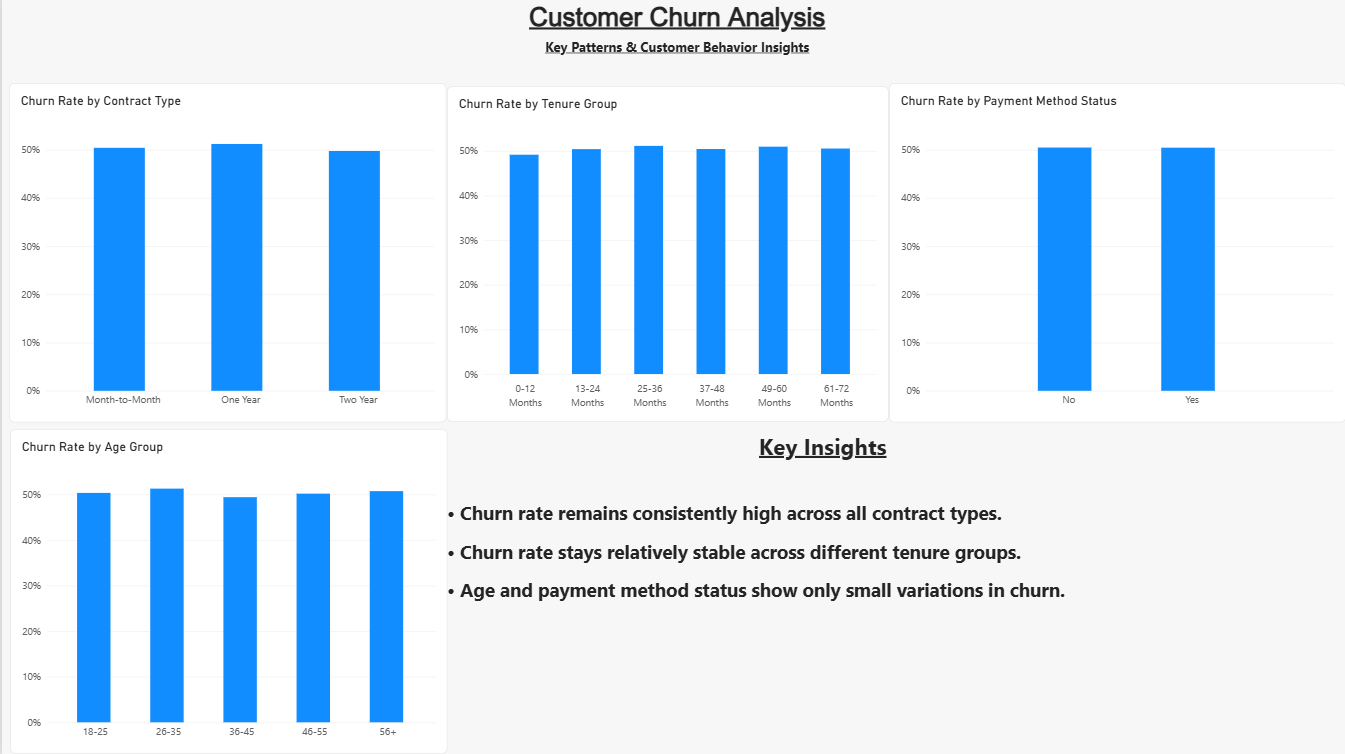

This screenshot's page, from the dashboard's own definition file:
{"tool":"powerbi","page":{"name":"Page 2","canvas":[1920,1080],"ordinal":1},"visuals":[{"type":"textbox","box":[10.6,0,1909.1,153.1],"z":0},{"type":"textbox","box":[10.6,0,1909.1,121.2],"z":1},{"type":"clusteredColumnChart","title":"Churn Rate by Contract Type","fields":{"Category":["Sheet.Contract"],"Y":["All Measures.Churn Rate %"]},"box":[10.6,121.2,625,484.7],"z":2},{"type":"clusteredColumnChart","title":"Churn Rate by Tenure Group","fields":{"Category":["Sheet.Tenure Group"],"Y":["All Measures.Churn Rate %"]},"box":[635.7,125.4,631.4,480.5],"z":3},{"type":"clusteredColumnChart","title":"Churn Rate by Payment Method Status","fields":{"Category":["Sheet.PaymentMethod"],"Y":["All Measures.Churn Rate %"]},"box":[1267.1,121.2,652.7,484.7],"z":4},{"type":"clusteredColumnChart","title":"Churn Rate by Age Group","fields":{"Category":["Sheet.Age Group"],"Y":["All Measures.Churn Rate %"]},"box":[11,616,625,464],"z":5},{"type":"textbox","box":[635.7,616.5,1073.6,463.5],"z":6}]}

Visuals, with their boxes in screenshot pixels (x1, y1, x2, y2), scaled from the page's 1920x1080 canvas onto the 1345x754 screenshot:
textbox: box=[7, 0, 1344, 107]
textbox: box=[7, 0, 1344, 85]
"Churn Rate by Contract Type" clusteredColumnChart: box=[7, 85, 445, 423]
"Churn Rate by Tenure Group" clusteredColumnChart: box=[445, 88, 888, 423]
"Churn Rate by Payment Method Status" clusteredColumnChart: box=[888, 85, 1344, 423]
"Churn Rate by Age Group" clusteredColumnChart: box=[8, 430, 446, 753]
textbox: box=[445, 430, 1197, 753]
